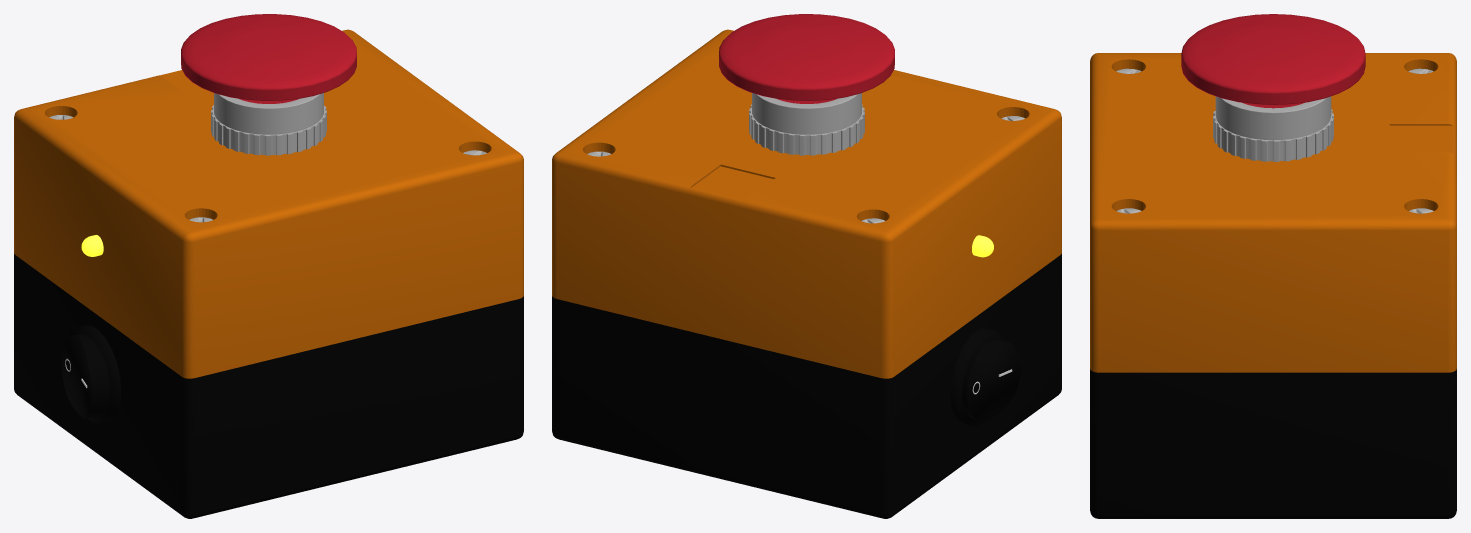
File: red_button.glb
The picture shows the model from 3 angles, left to right: view 1: azimuth 30°, elevation 25°; view 2: azimuth 150°, elevation 25°; view 3: azimuth 270°, elevation 25°; orthographic projection. The views are drawn at different scales.
Parts seen in each view (by area): view 1: Cube, Sphere; view 2: Cube, Sphere; view 3: Cube, Sphere.
Boxes of the visible parts, <box> form: Cube: <box>14,29,523,518</box>; Sphere: <box>181,14,356,103</box>; Cube: <box>552,29,1061,518</box>; Sphere: <box>719,14,894,103</box>; Cube: <box>1090,53,1456,518</box>; Sphere: <box>1181,14,1365,108</box>.
Bounding box in the file's own units: 2.15 × 2.1 × 1.79.
